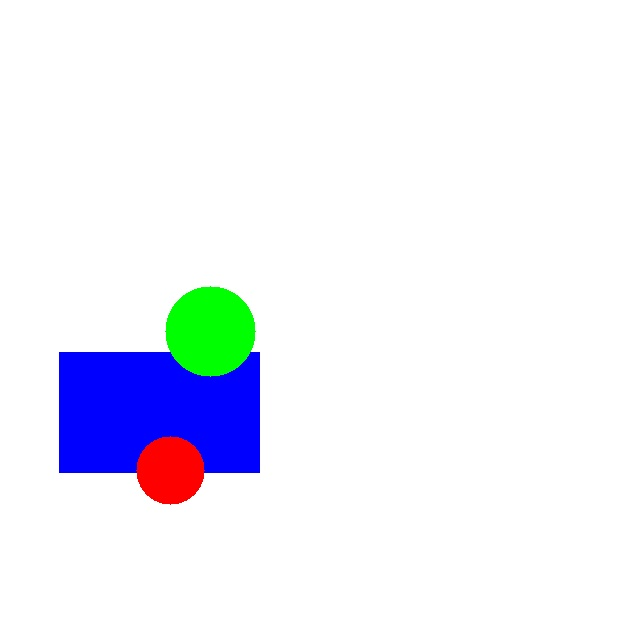cartao: (59, 352, 259, 472)
rosca_externa: (165, 286, 255, 376)
rosca_interna: (136, 436, 204, 504)
